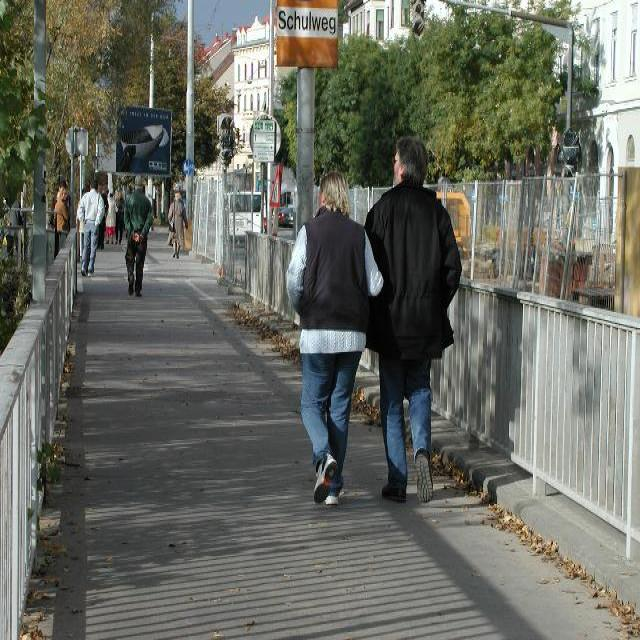non-fight: (365, 134, 457, 506), (292, 145, 371, 508)
